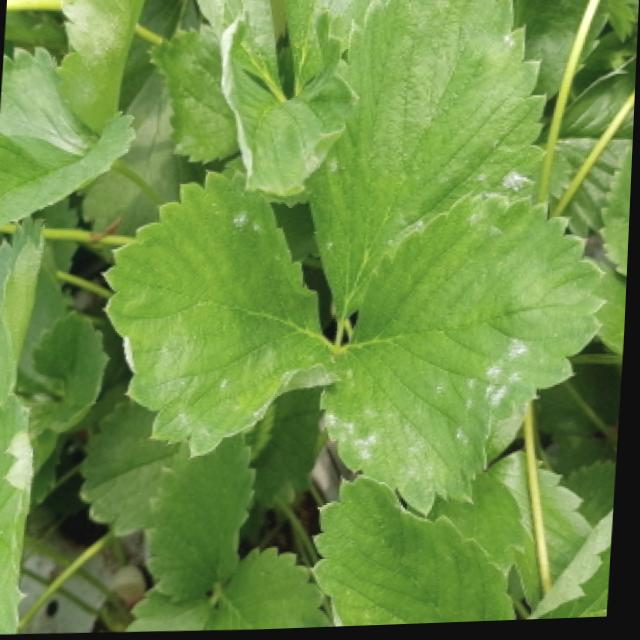Powdery Mildew Leaf: (321, 191, 609, 522), (306, 0, 548, 323), (101, 167, 340, 458), (312, 477, 521, 629), (217, 6, 349, 201), (0, 393, 42, 634)
